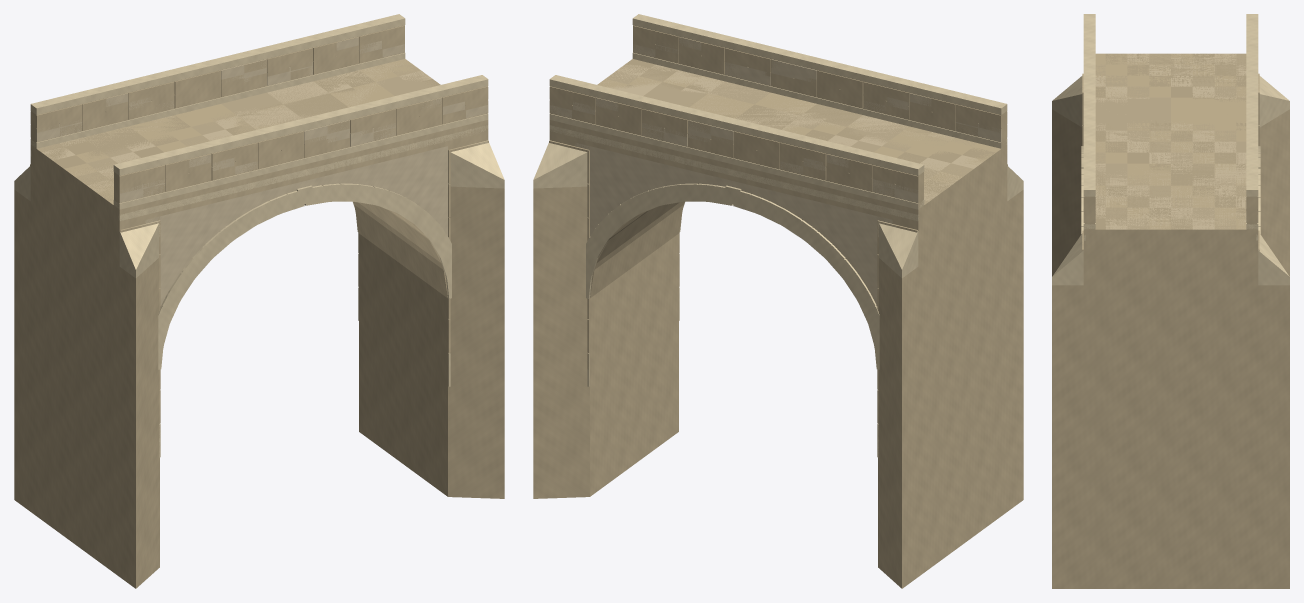
Rendered from verona_bridge_span.glb.
3 views of the same model, side by side, from view 1: azimuth 30°, elevation 25°; view 2: azimuth 150°, elevation 25°; view 3: azimuth 270°, elevation 25° (orthographic). The views are drawn at different scales.
Parts seen in each view (by area): view 1: Travertine.001, Limestone_trim.001, Limestone_trim.002, Travertine.002, Limewash.001, Limewash.002, Travertine.003, Paving_0.002, Paving_3.003, Paving_1.002, Limewash.003, Paving_1.003 (+8 smaller); view 2: Travertine.001, Limestone_trim.001, Limestone_trim.002, Travertine.002, Limewash.001, Limewash.002, Travertine.003, Limewash.003, Paving_2.002, Paving_1.002, Paving_0.001, Paving_1.001 (+8 smaller); view 3: Travertine.001, Limestone_trim.001, Paving_3.001, Paving_2.001, Paving_1.001, Paving_0.001, Paving_0.003, Paving_2.002, Paving_1.002, Paving_3.002, Paving_0.002, Paving_3.003 (+4 smaller).
Boxes of the visible parts, x1,y1,x2,y2 form: Travertine.001: (14,25,504,588); Limestone_trim.001: (14,14,504,369); Limestone_trim.002: (30,14,488,457); Travertine.002: (30,26,488,423); Limewash.001: (37,37,487,305); Limewash.002: (30,59,447,303); Travertine.003: (353,201,447,298); Paving_0.002: (99,59,420,204); Paving_3.003: (222,82,347,128); Paving_1.002: (76,70,374,192); Limewash.003: (153,147,447,290); Paving_1.003: (37,126,162,176); Travertine.001: (533,25,1023,588); Limestone_trim.001: (533,14,1023,386); Limestone_trim.002: (549,14,1007,457); Travertine.002: (549,26,1007,423); Limewash.001: (550,37,1000,305); Limewash.002: (576,59,1007,305); Travertine.003: (590,201,684,298); Limewash.003: (577,144,888,292); Paving_2.002: (599,70,961,192); Paving_1.002: (617,59,983,176); Paving_0.001: (597,75,1000,184); Paving_1.001: (624,59,995,192); Travertine.001: (1052,75,1289,588); Limestone_trim.001: (1052,14,1289,285); Paving_3.001: (1095,53,1246,229); Paving_2.001: (1095,53,1246,229); Paving_1.001: (1095,53,1246,229); Paving_0.001: (1095,53,1246,229); Paving_0.003: (1095,53,1246,141); Paving_2.002: (1095,53,1246,229); Paving_1.002: (1095,53,1246,229); Paving_3.002: (1095,53,1246,229); Paving_0.002: (1095,53,1246,229); Paving_3.003: (1095,97,1245,185).
Size of the model in its own units: 10.5 by 11.1 by 6.
7 materials, 3 textured.
